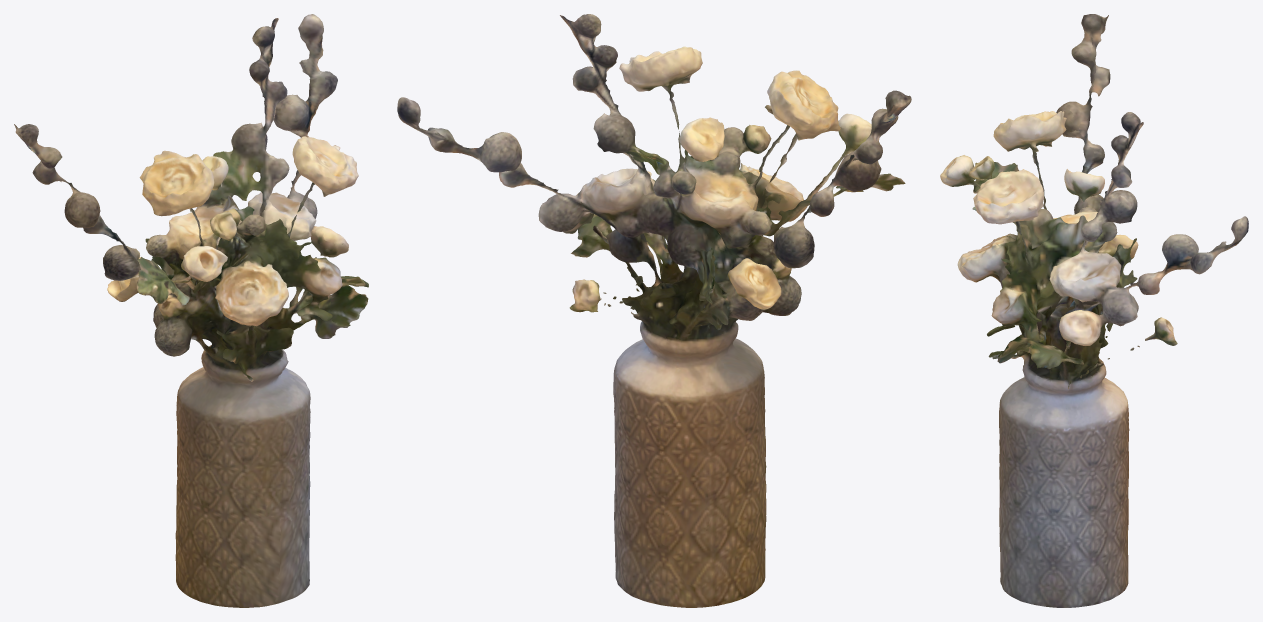
The model's file is flower_in_flower_pot.glb.
The picture shows the model from 3 angles, left to right: view 1: azimuth 30°, elevation 25°; view 2: azimuth 150°, elevation 25°; view 3: azimuth 270°, elevation 25°; orthographic projection. The views are drawn at different scales.
Visible parts, largest first — view 1: Object_3, Object_2; view 2: Object_3, Object_2; view 3: Object_2, Object_3.
Boxes of the visible parts, left/top/right/bottom form: Object_3: left=17, top=14, right=367, bottom=607; Object_2: left=14, top=14, right=368, bottom=580; Object_3: left=397, top=14, right=906, bottom=607; Object_2: left=397, top=14, right=911, bottom=359; Object_2: left=942, top=14, right=1246, bottom=607; Object_3: left=940, top=104, right=1248, bottom=607.
Bounding box in the file's own units: 0.4549 × 0.5863 × 0.332.
Materials: 1 (1 with a texture image).
